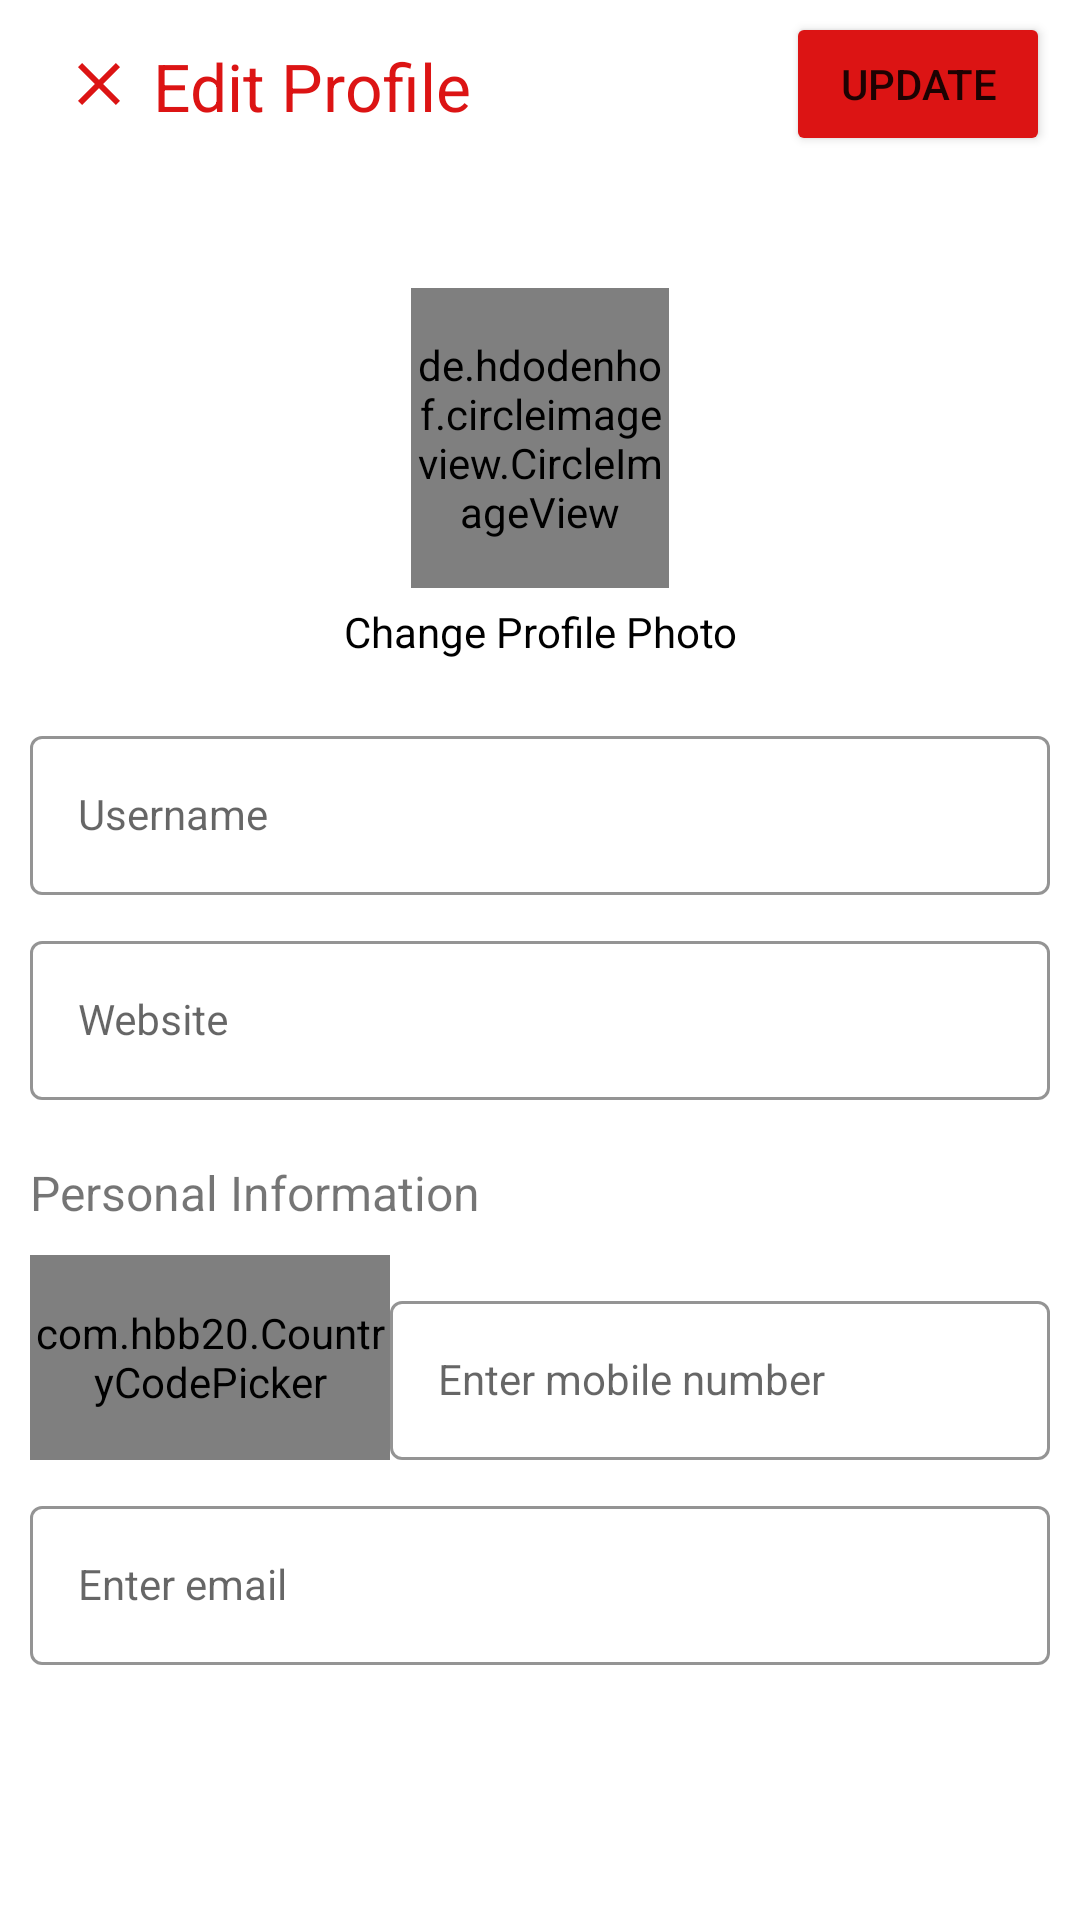

Icons on this 1080 × 1920 Android screen, each with its box as (x1, y1, x2, y2):
Toolbar navigation icon: (78, 63, 120, 105)
